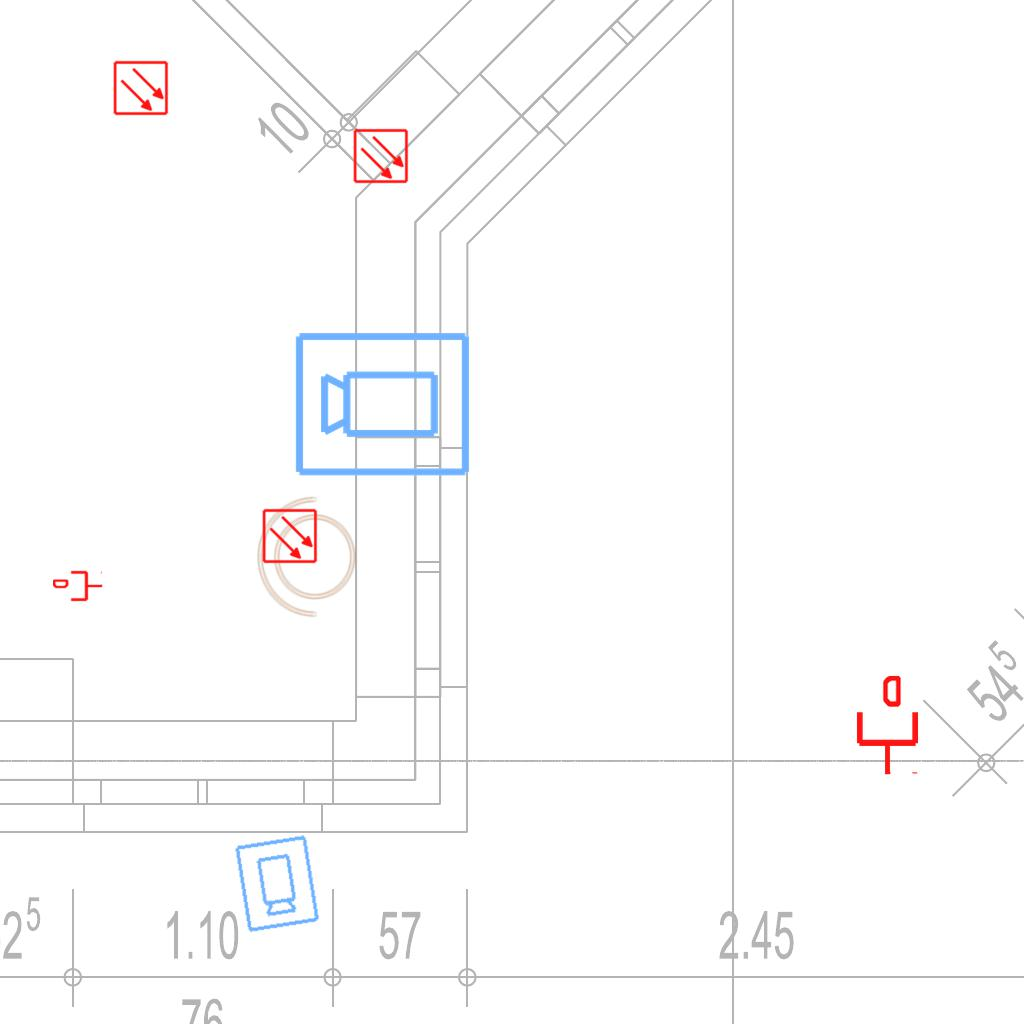Datenanschluss_einfach: (853, 676, 922, 776), (53, 569, 103, 603)
KFO_Kamera_mit_Festobjektiv: (292, 326, 474, 480), (231, 832, 322, 935)
RMO_Rauchmelder_optischer: (113, 60, 169, 116), (353, 128, 409, 184), (262, 508, 318, 564)
Scheinwerfer_fuer_Alarmbeleuchtung: (254, 494, 366, 626)
